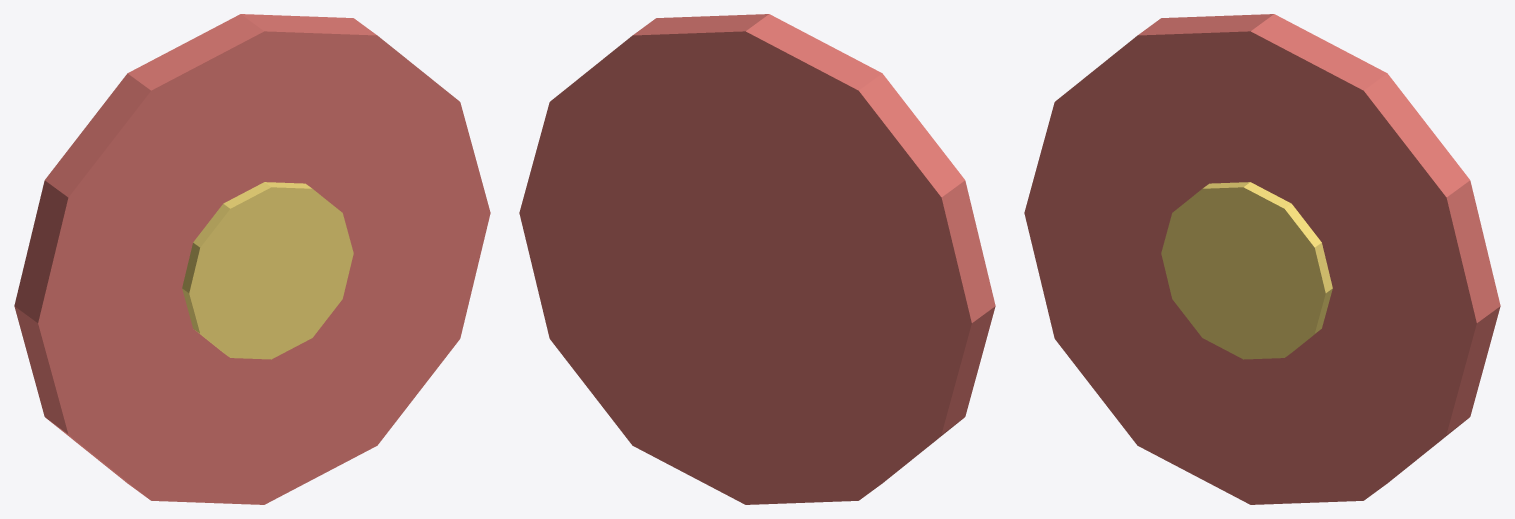
Rendered from escudo.glb.
The picture shows the model from 3 angles, left to right: view 1: azimuth 30°, elevation 25°; view 2: azimuth 150°, elevation 25°; view 3: azimuth 330°, elevation 25°; orthographic projection.
Visible parts, largest first — view 1: escudo; view 2: escudo; view 3: escudo.
Part boxes in pixels (x1,y1,x2,y2): escudo: (14,14,490,504); escudo: (519,14,995,504); escudo: (1024,14,1500,504).
Bounding box in the file's own units: 1.1 × 1.1 × 0.13.
